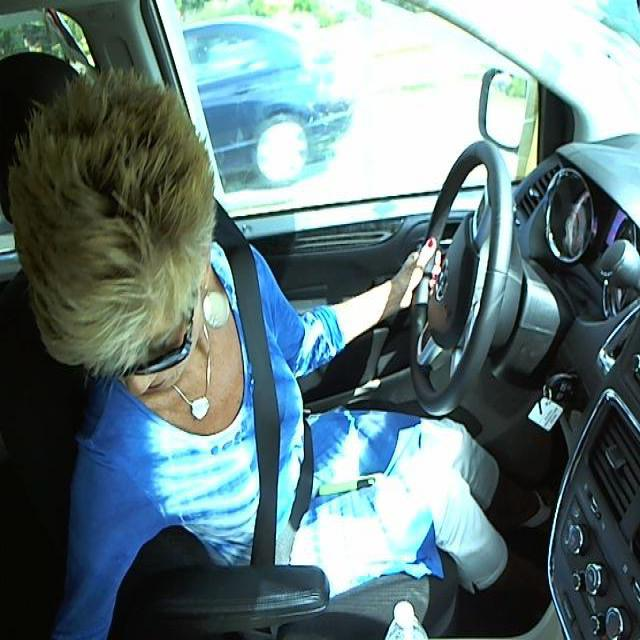seatbelt: (235, 268, 308, 571)
